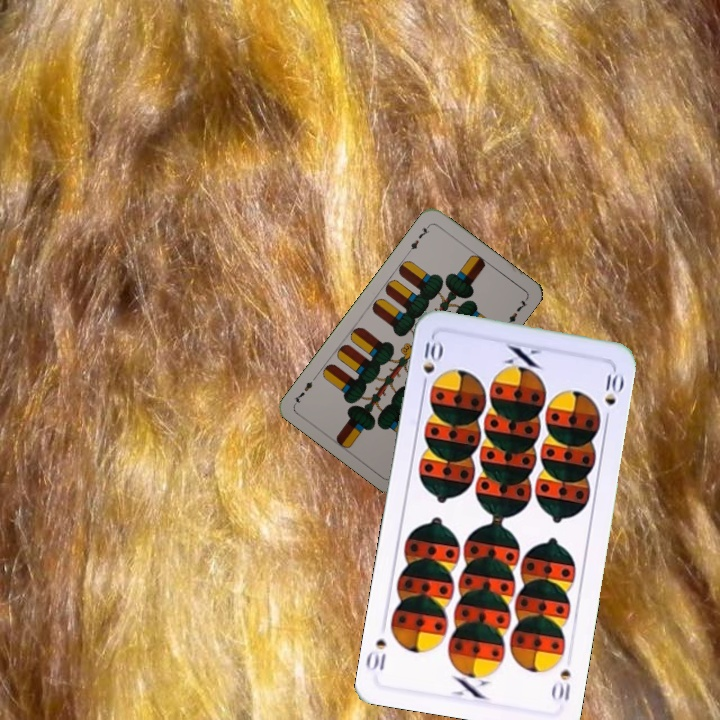E7: (404, 221, 432, 255)
S10: (418, 333, 445, 392), (548, 665, 573, 703)
